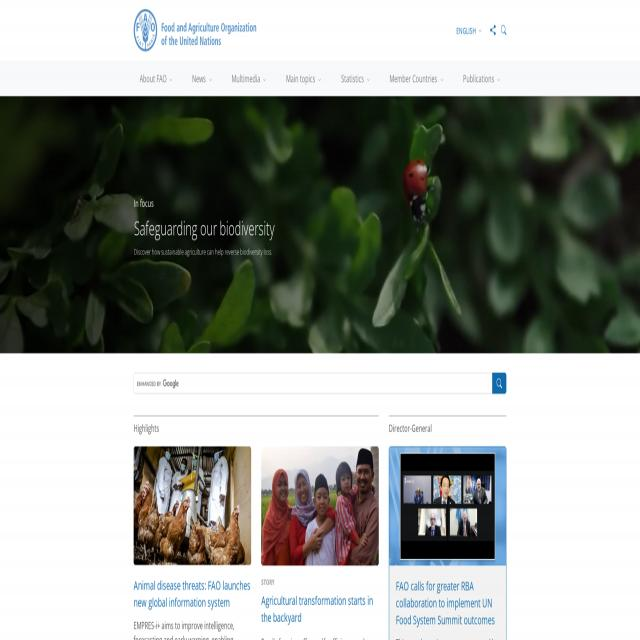button: (261, 446, 379, 566), (134, 446, 251, 566), (389, 447, 506, 566), (134, 9, 256, 51), (384, 60, 449, 96), (458, 60, 507, 96), (280, 60, 328, 96), (226, 60, 272, 96), (134, 60, 178, 96), (335, 60, 376, 96), (186, 60, 218, 96), (453, 20, 485, 40), (492, 373, 507, 394), (498, 22, 509, 38), (488, 21, 498, 38)
field: (134, 373, 492, 394)
